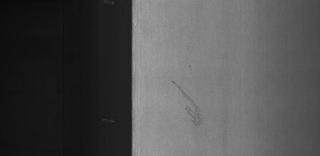water spot: (168, 78, 212, 128)
